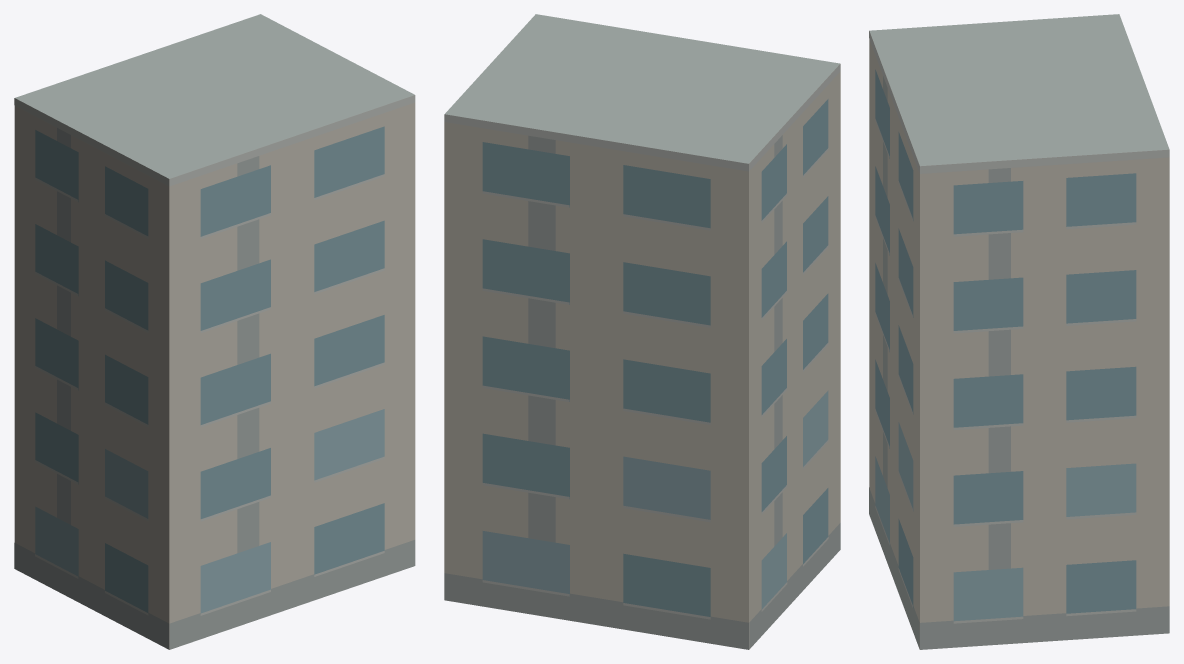
File: residential-09e40f99-602e-4775-a0d2-a06d3bd6aef4.glb
3 renders of one model, left to right at view 1: azimuth 30°, elevation 25°; view 2: azimuth 150°, elevation 25°; view 3: azimuth 270°, elevation 25°, orthographic. The views are drawn at different scales.
Visible parts, largest first — view 1: residential-09e40f99-602e-4775-a0d2-a06d3bd6aef4.tmp; view 2: residential-09e40f99-602e-4775-a0d2-a06d3bd6aef4.tmp; view 3: residential-09e40f99-602e-4775-a0d2-a06d3bd6aef4.tmp.
Part boxes in pixels (x1,y1,x2,y2): residential-09e40f99-602e-4775-a0d2-a06d3bd6aef4.tmp: (14, 14, 415, 649); residential-09e40f99-602e-4775-a0d2-a06d3bd6aef4.tmp: (444, 14, 840, 649); residential-09e40f99-602e-4775-a0d2-a06d3bd6aef4.tmp: (869, 14, 1169, 649).
Size of the model in its own units: 10.3 by 15.25 by 8.59.
